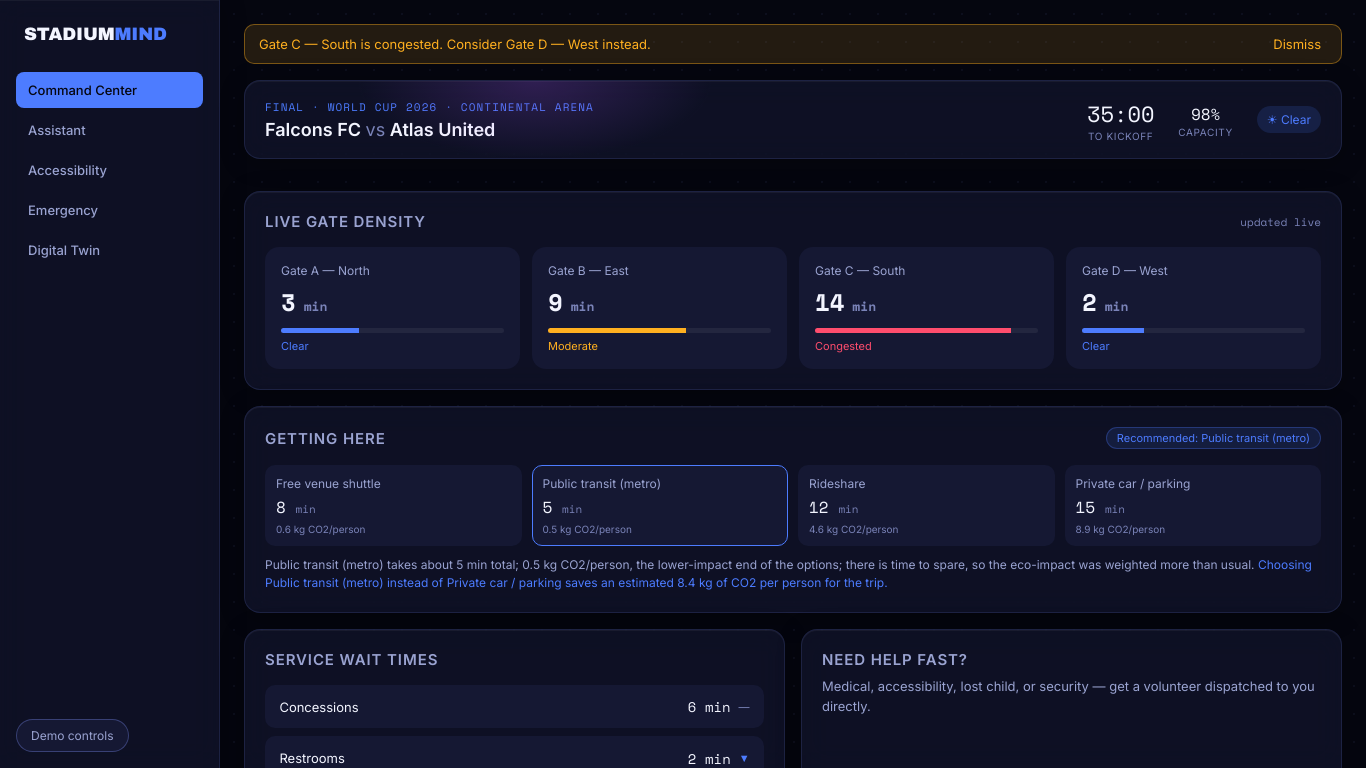
App › navigates to the Accessibility page and can run the agent locally
Click the link "Accessibility": (68, 170) [28,162,107,178]
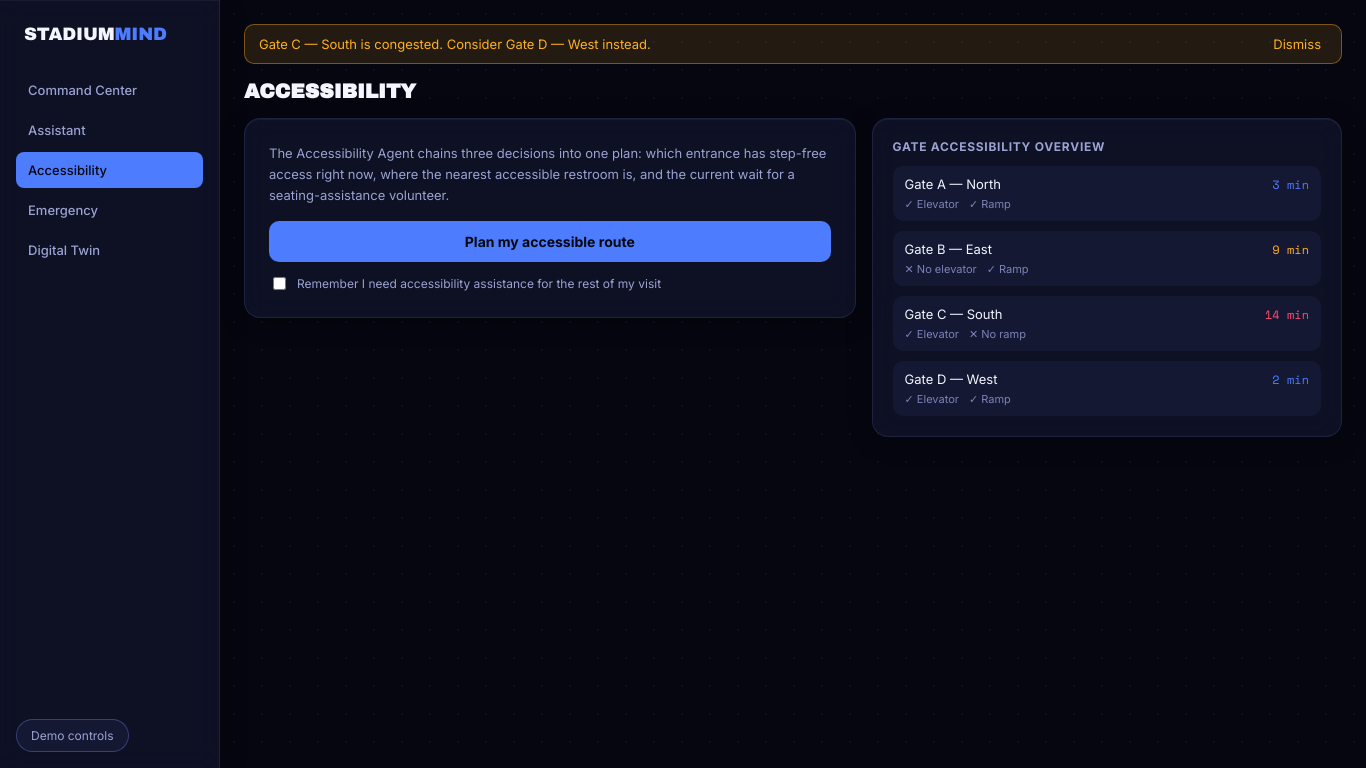
Check: the heading "ACCESSIBILITY" is shown, box [244,80,416,102]
Click the button "Plan my accessible route": (550, 242) [269,221,831,262]
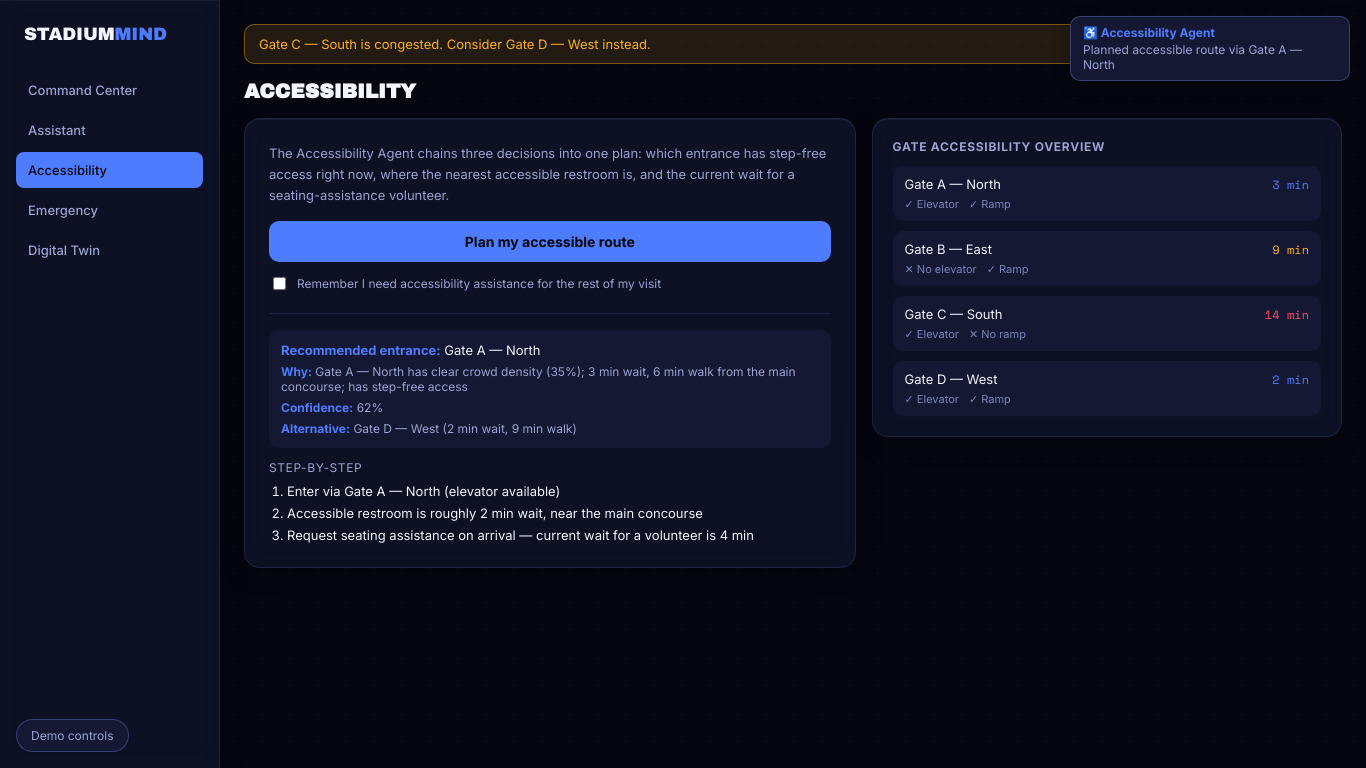
Check: the text "Recommended entrance:" is shown, box [281,342,441,358]
